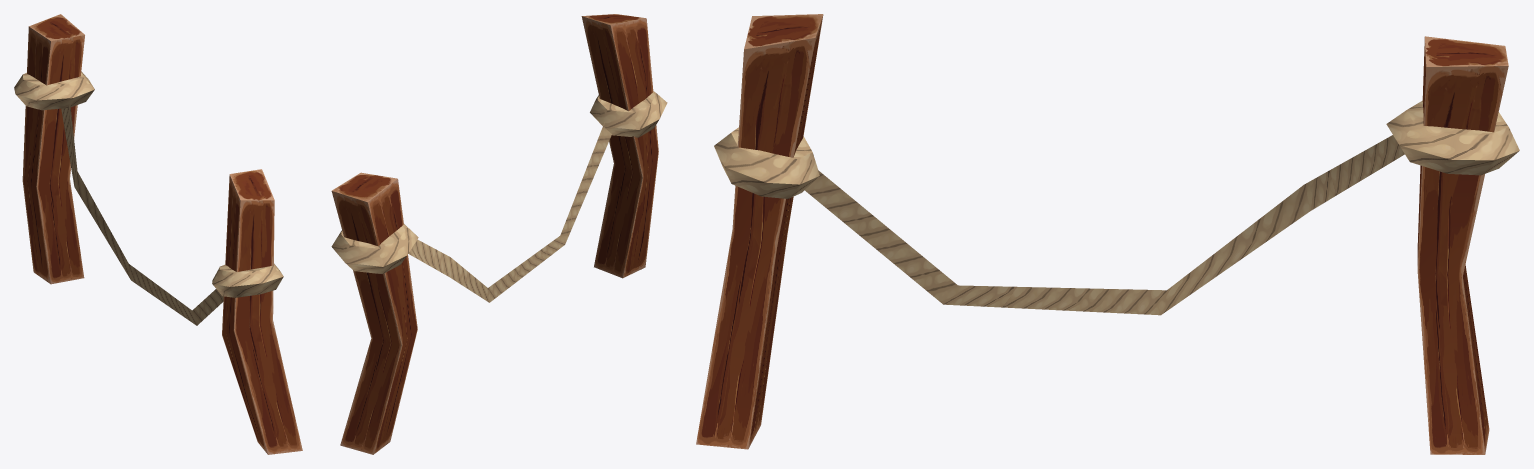
The model's file is SM_PROP_railing_v03_02.fbx.
3 renders of one model, left to right at view 1: azimuth 30°, elevation 25°; view 2: azimuth 150°, elevation 25°; view 3: azimuth 270°, elevation 25°, orthographic. The views are drawn at different scales.
Visible parts, largest first — view 1: SM_PROP_railing_v03_02; view 2: SM_PROP_railing_v03_02; view 3: SM_PROP_railing_v03_02.
Boxes of the visible parts, bbox=[...] form: SM_PROP_railing_v03_02: bbox=[14, 14, 302, 454]; SM_PROP_railing_v03_02: bbox=[331, 14, 667, 454]; SM_PROP_railing_v03_02: bbox=[696, 14, 1519, 454].
Size of the model in its own units: 36.98 by 101 by 187.
